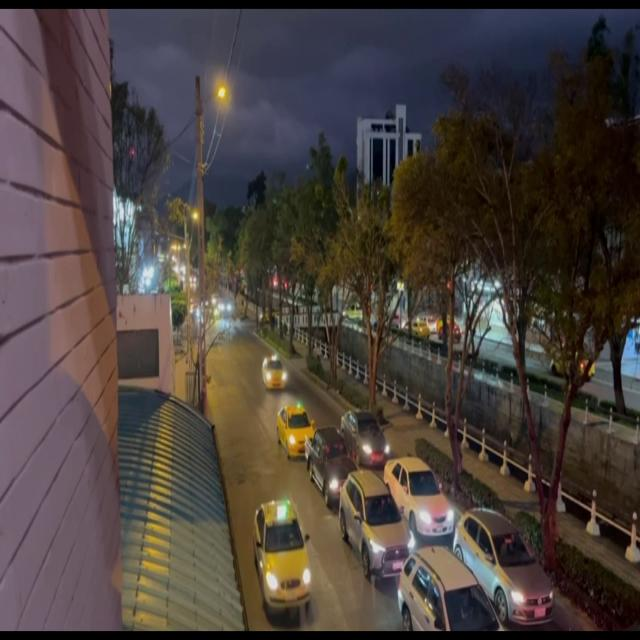CMT: (307, 428, 355, 503)
